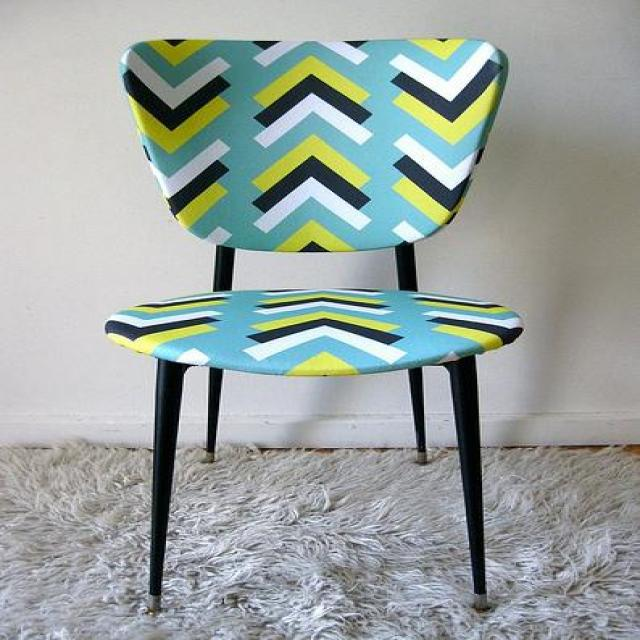chair: (103, 36, 526, 613)
